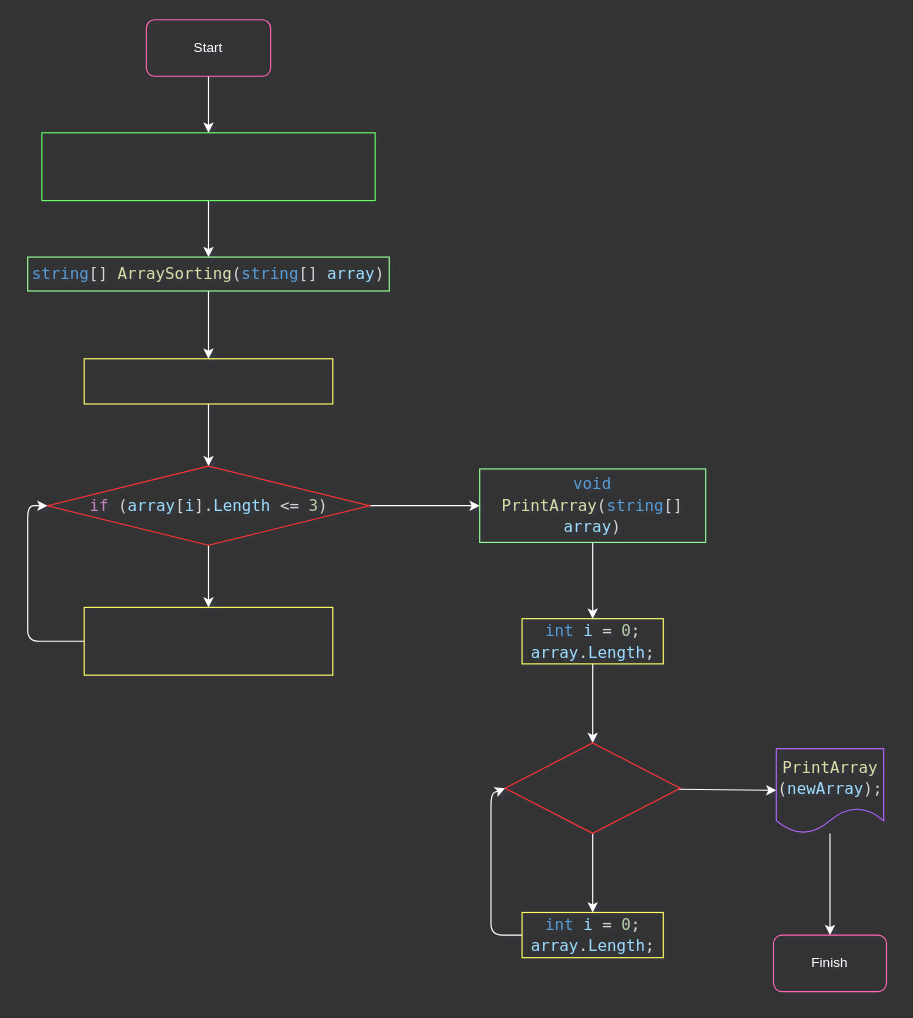
This 913x1018 diagram has some shape labels left out. Here are the shapes that lost their labels. From the top down, the centre of each, then its label:
point 208,166: string [] array ={ "1234" , "1567" , "-2" , "computer science" };
point 208,381: string [] SortedArray = new string [ array . Length ];
point 208,640: SortedArray [ count ] = array [ i ]; count ++;
point 592,787: i < array . Length
